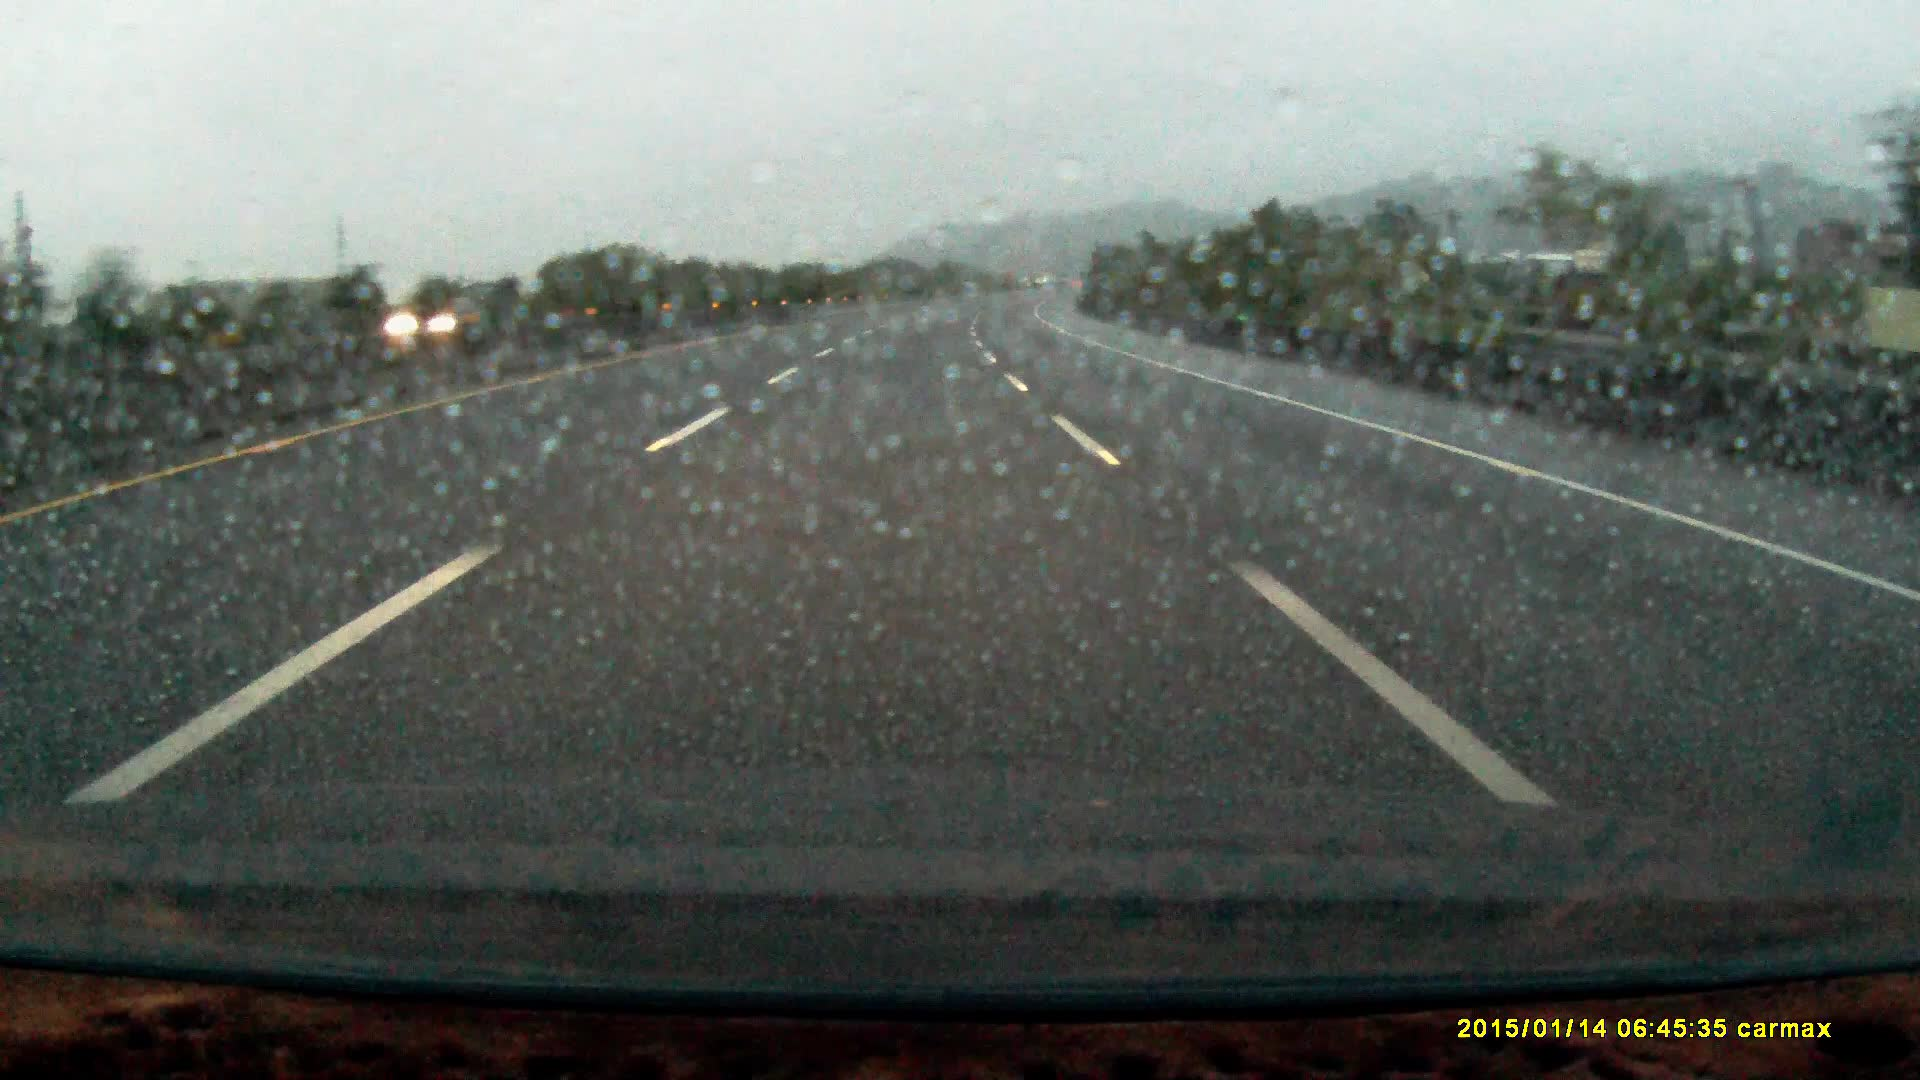vehicle: (380, 298, 483, 342)
